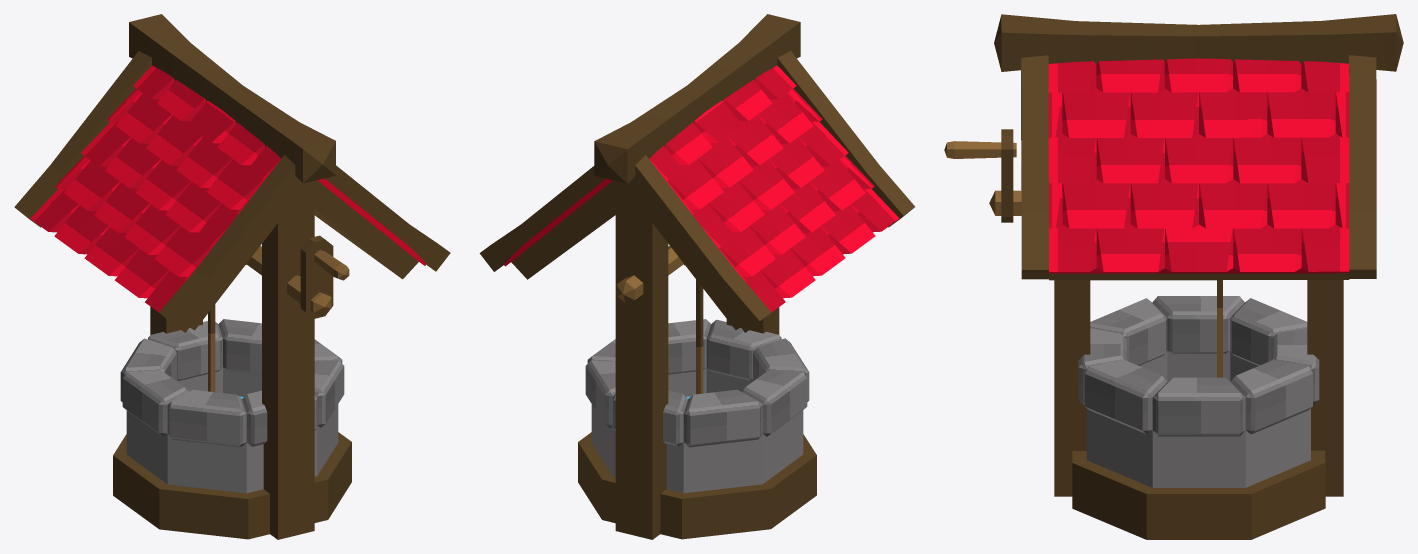
The model's file is well.obj.
The picture shows the model from 3 angles, left to right: view 1: azimuth 30°, elevation 25°; view 2: azimuth 150°, elevation 25°; view 3: azimuth 270°, elevation 25°; orthographic projection. The views are drawn at different scales.
Parts seen in each view (by area): view 1: object16.001, object12.002, object6.016, object15.001, object5.019, object8.006, object7.009, object1.145, object2.050, object4.023, object10.004, object9.006 (+1 smaller); view 2: object16.001, object11.002, object12.002, object15.001, object5.019, object8.006, object1.145, object7.009, object3.038, object9.006, object10.004; view 3: object16.001, object12.002, object5.019, object8.006, object15.001, object11.002, object6.016, object2.050, object3.038, object4.023, object14.001, object9.006.
Part boxes in pixels (x1=…): object16.001: x1=30, y1=65, x2=426, y2=330; object12.002: x1=120, y1=319, x2=344, y2=447; object6.016: x1=262, y1=196, x2=314, y2=539; object15.001: x1=113, y1=432, x2=351, y2=539; object5.019: x1=129, y1=14, x2=335, y2=183; object8.006: x1=126, y1=367, x2=338, y2=493; object7.009: x1=159, y1=154, x2=299, y2=332; object1.145: x1=14, y1=51, x2=151, y2=227; object2.050: x1=325, y1=165, x2=450, y2=271; object4.023: x1=300, y1=235, x2=333, y2=318; object10.004: x1=246, y1=246, x2=331, y2=316; object9.006: x1=208, y1=304, x2=215, y2=392; object16.001: x1=503, y1=65, x2=899, y2=329; object11.002: x1=615, y1=196, x2=668, y2=539; object12.002: x1=585, y1=319, x2=809, y2=447; object15.001: x1=578, y1=432, x2=816, y2=539; object5.019: x1=594, y1=14, x2=800, y2=183; object8.006: x1=591, y1=367, x2=803, y2=493; object1.145: x1=631, y1=155, x2=771, y2=332; object7.009: x1=777, y1=51, x2=914, y2=227; object3.038: x1=479, y1=166, x2=605, y2=271; object9.006: x1=696, y1=279, x2=703, y2=394; object10.004: x1=616, y1=245, x2=683, y2=303; object16.001: x1=1048, y1=58, x2=1349, y2=280; object12.002: x1=1078, y1=296, x2=1319, y2=436; object5.019: x1=994, y1=14, x2=1403, y2=71; object8.006: x1=1086, y1=350, x2=1310, y2=487; object15.001: x1=1072, y1=450, x2=1325, y2=539; object11.002: x1=1307, y1=280, x2=1343, y2=496; object6.016: x1=1054, y1=280, x2=1090, y2=496; object2.050: x1=1021, y1=55, x2=1048, y2=279; object3.038: x1=1349, y1=55, x2=1376, y2=278; object4.023: x1=1001, y1=129, x2=1013, y2=222; object14.001: x1=944, y1=141, x2=1016, y2=158; object9.006: x1=1217, y1=280, x2=1222, y2=377.
Bounding box in the file's own units: 48.26 × 66.96 × 60.21.
Materials: 1 (1 with a texture image).
